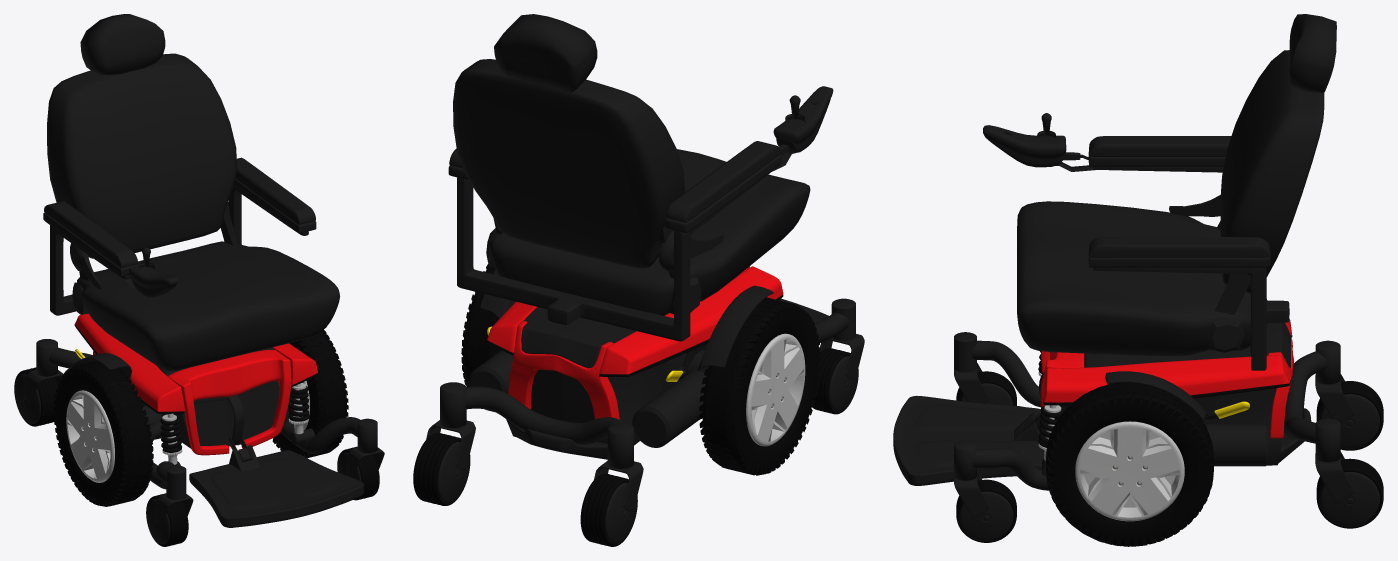
The model's file is FixedPowerWheelChair.fbx.
3 renders of one model, left to right at view 1: azimuth 30°, elevation 25°; view 2: azimuth 150°, elevation 25°; view 3: azimuth 270°, elevation 25°, orthographic. The views are drawn at different scales.
Visible parts, largest first — view 1: Chair, Base, MainWheel, ColoredPart, SmallFrontWheel, SmallBackWheel, Controller1; view 2: Chair, Base, MainWheel, ColoredPart, SmallBackWheel, SmallFrontWheel, Controller1; view 3: Chair, Base, MainWheel, ColoredPart, SmallBackWheel, SmallFrontWheel, Controller1.
Boxes of the visible parts, left/top/right/bottom form: Chair: left=43, top=14, right=339, bottom=370; Base: left=22, top=339, right=384, bottom=527; MainWheel: left=54, top=330, right=348, bottom=506; ColoredPart: left=74, top=313, right=317, bottom=455; SmallFrontWheel: left=146, top=446, right=379, bottom=546; SmallBackWheel: left=14, top=367, right=58, bottom=426; Controller1: left=70, top=243, right=101, bottom=288; Chair: left=448, top=14, right=833, bottom=341; Base: left=426, top=269, right=864, bottom=510; MainWheel: left=461, top=263, right=820, bottom=475; ColoredPart: left=486, top=266, right=783, bottom=419; SmallBackWheel: left=413, top=433, right=637, bottom=546; SmallFrontWheel: left=812, top=348, right=858, bottom=414; Controller1: left=658, top=230, right=723, bottom=271; Chair: left=983, top=14, right=1336, bottom=370; Base: left=893, top=323, right=1354, bottom=517; MainWheel: left=1046, top=382, right=1213, bottom=546; ColoredPart: left=1040, top=319, right=1294, bottom=438; SmallBackWheel: left=1316, top=381, right=1383, bottom=528; SmallFrontWheel: left=956, top=371, right=1016, bottom=542; Controller1: left=1169, top=194, right=1220, bottom=216.
Size of the model in its own units: 1.91 by 3.25 by 3.1.
